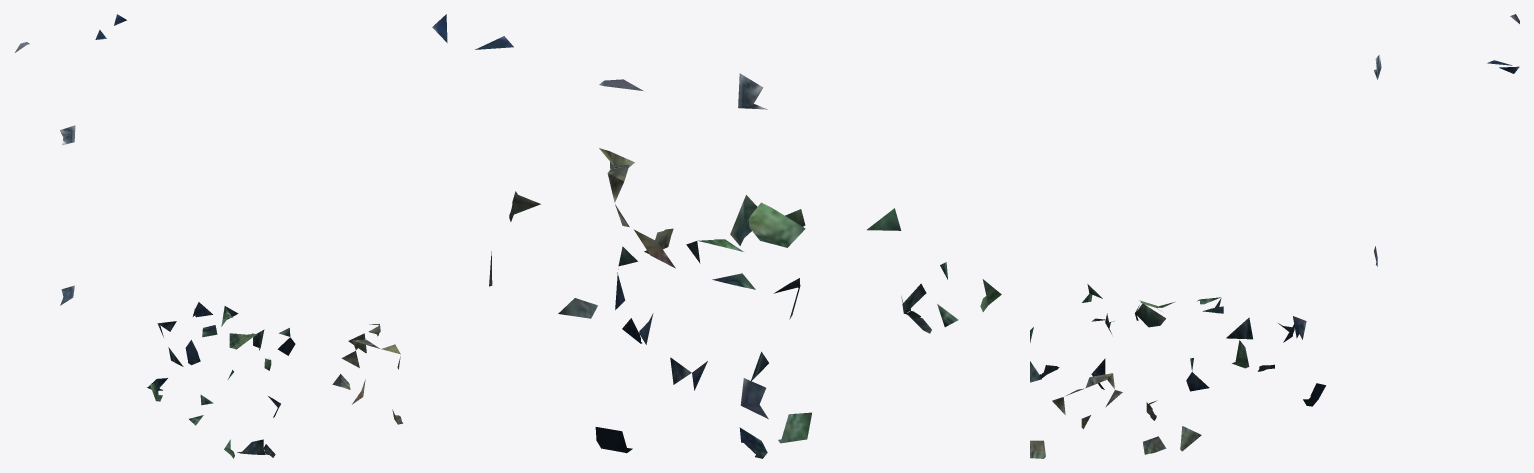
3 views of the same model, side by side, from view 1: azimuth 30°, elevation 25°; view 2: azimuth 150°, elevation 25°; view 3: azimuth 270°, elevation 25° (orthographic). The views are drawn at different scales.
Visible parts, largest first — view 1: 30436272704370606707_1; view 2: 30436272704370606707_1; view 3: 30436272704370606707_1.
Part boxes in pixels (x1,y1,x2,y2): 30436272704370606707_1: (15,14,402,458); 30436272704370606707_1: (432,14,1001,458); 30436272704370606707_1: (1030,14,1519,458).
Size of the model in its own units: 24.7 by 29.75 by 38.25.
Materials: 1 (1 with a texture image).
